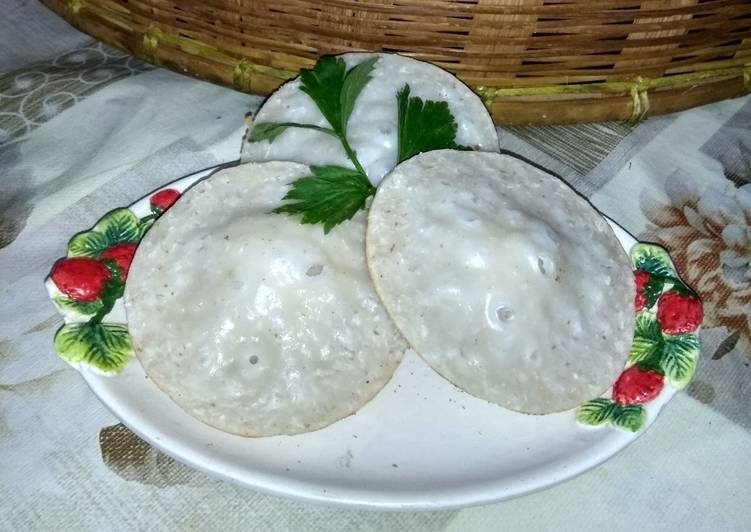srabi: (336, 122, 639, 407)
